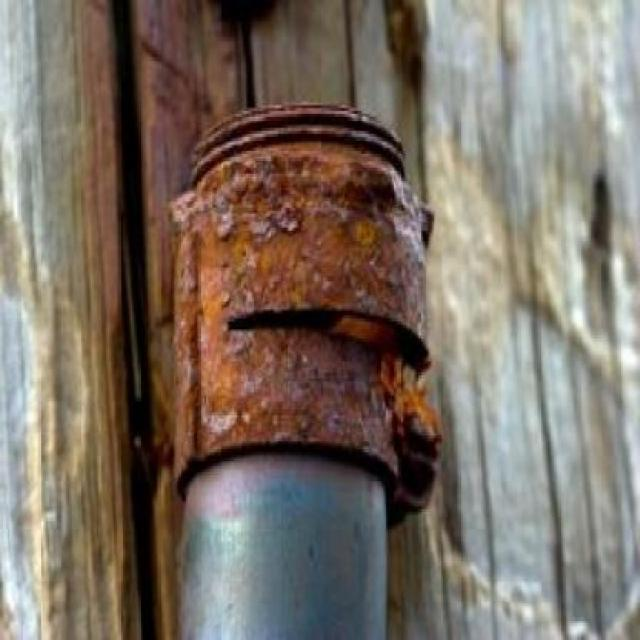corrosion: (165, 83, 449, 526)
